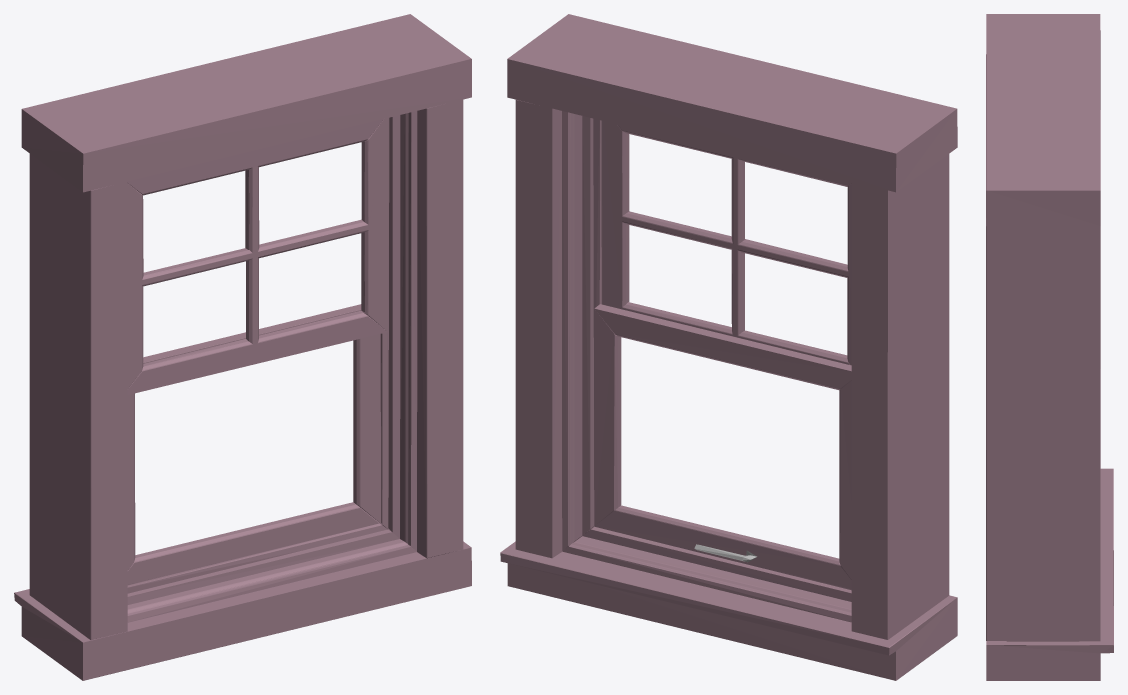
File: SM_BigHouse_Window_B_3.fbx
The picture shows the model from 3 angles, left to right: view 1: azimuth 30°, elevation 25°; view 2: azimuth 150°, elevation 25°; view 3: azimuth 270°, elevation 25°; orthographic projection. The views are drawn at different scales.
Visible parts, largest first — view 1: SM_BigHouse_Window_B_3; view 2: SM_BigHouse_Window_B_3; view 3: SM_BigHouse_Window_B_3.
Part boxes in pixels (bbox=[...]): SM_BigHouse_Window_B_3: bbox=[14, 14, 471, 680]; SM_BigHouse_Window_B_3: bbox=[500, 14, 957, 680]; SM_BigHouse_Window_B_3: bbox=[986, 14, 1113, 680].
Bounding box in the file's own units: 95.07 × 29.05 × 123.
